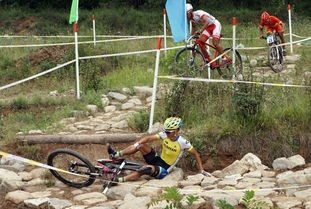falling: (100, 109, 206, 185)
